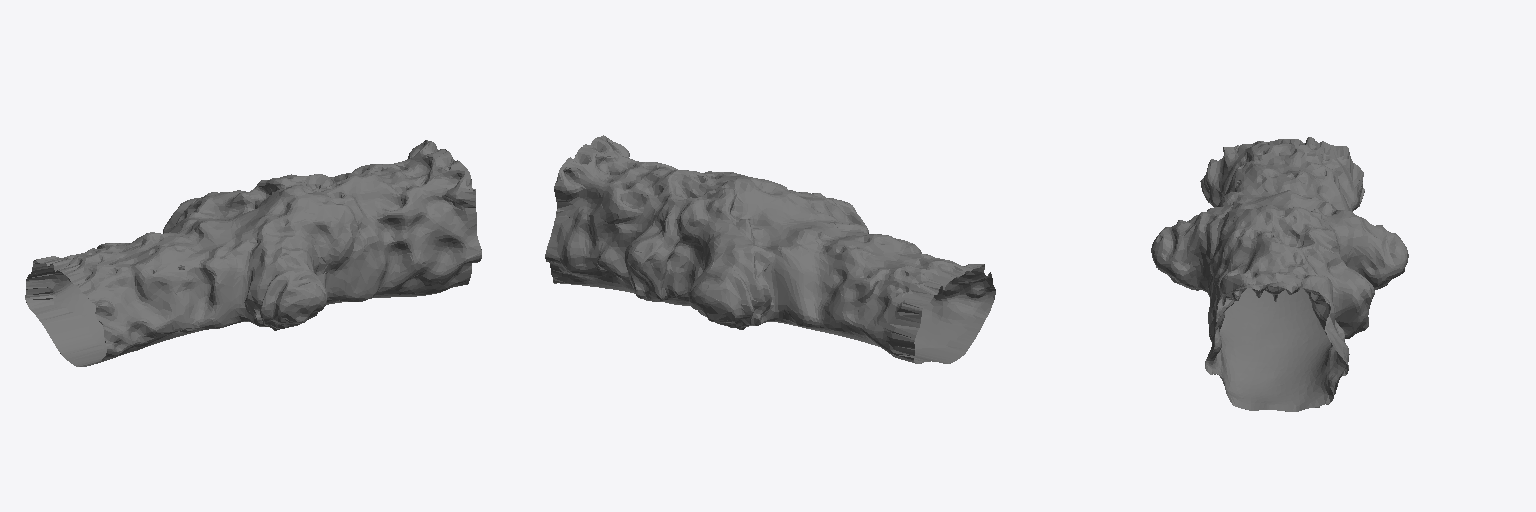
The model's file is cave_mesh.obj.
The picture shows the model from 3 angles: view 1: azimuth 30°, elevation 25°; view 2: azimuth 150°, elevation 25°; view 3: azimuth 270°, elevation 25°; orthographic projection.
Parts seen in each view (by area): view 1: cave_mesh:Mesh; view 2: cave_mesh:Mesh; view 3: cave_mesh:Mesh.
Part boxes in pixels (x1,y1,x2,y2): cave_mesh:Mesh: (25, 140, 481, 366); cave_mesh:Mesh: (545, 135, 995, 363); cave_mesh:Mesh: (1151, 137, 1408, 411).
Size of the model in its own units: 468 by 153 by 276.